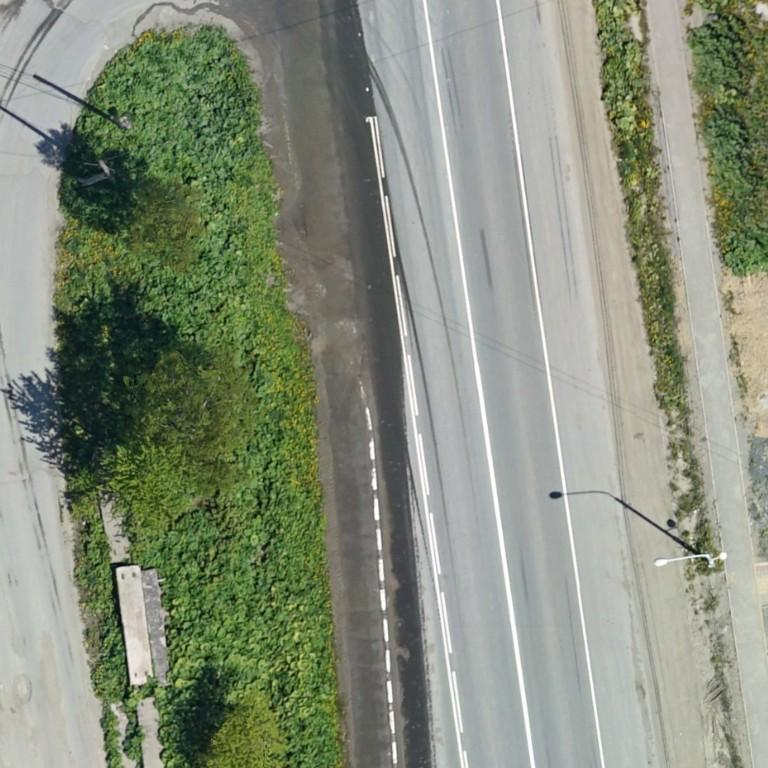hogweed: (80, 34, 258, 357), (708, 110, 752, 193), (695, 18, 744, 89), (725, 232, 767, 271)
